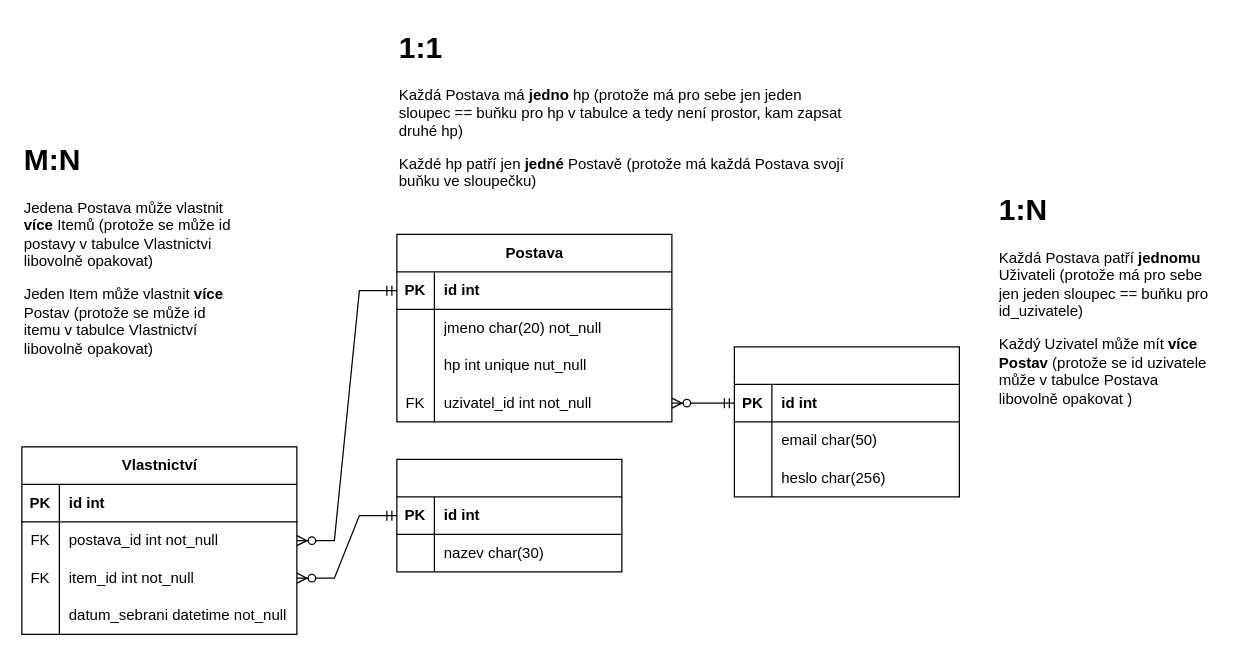
Some shapes in this 1244 by 656 pixel diagram are drawn without their labels. The shapes that lost their labels are listed below. From the top down, each one's box as (x1, y1, x2, y2) in pixels, then its label:
(733, 346, 959, 497): Uzivatel
(396, 458, 622, 572): Item
